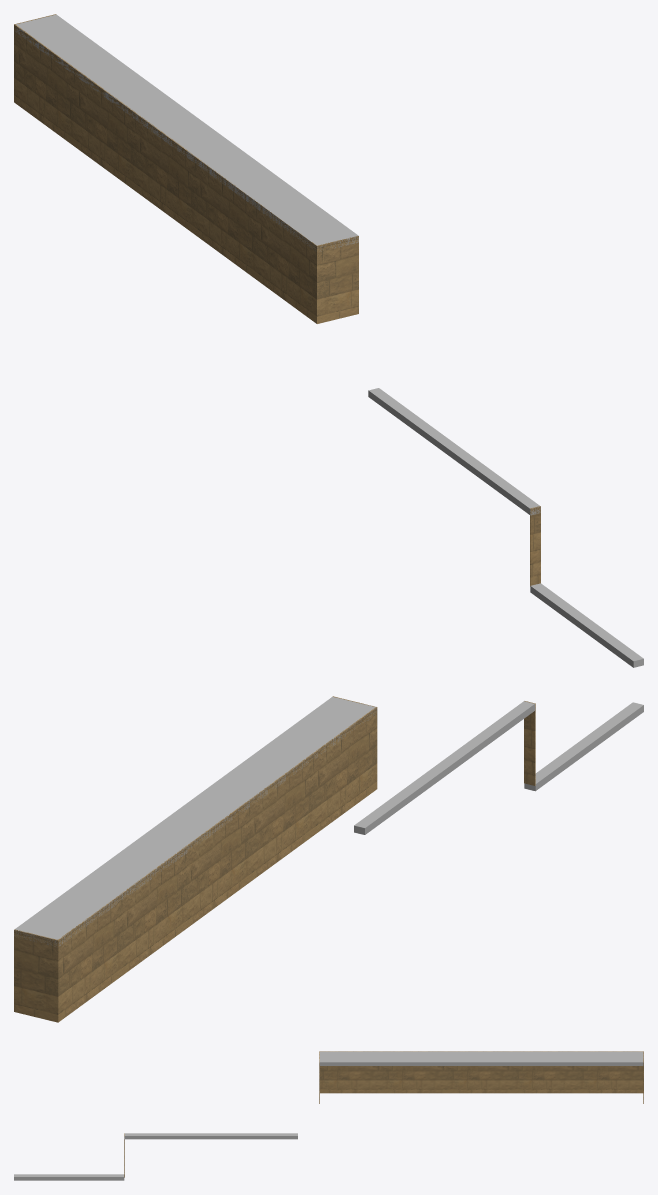
The model's file is roof-bundle-tea-terrace.glb.
3 renders of one model, top to bottom at view 1: azimuth 30°, elevation 25°; view 2: azimuth 150°, elevation 25°; view 3: azimuth 270°, elevation 25°, orthographic. The views are drawn at different scales.
Visible parts, largest first — view 1: bz06_dressed_sandstone-cast, ph_bz04_stone_trim_sandstone-cast; view 2: bz06_dressed_sandstone-cast, ph_bz04_stone_trim_sandstone-cast; view 3: bz06_dressed_sandstone-cast, ph_bz04_stone_trim_sandstone-cast.
Part boxes in pixels (x1,y1,x2,y2): bz06_dressed_sandstone-cast: (14,14,540,586); ph_bz04_stone_trim_sandstone-cast: (15,14,643,667); bz06_dressed_sandstone-cast: (14,696,535,1022); ph_bz04_stone_trim_sandstone-cast: (14,697,643,947); bz06_dressed_sandstone-cast: (124,1051,643,1177); ph_bz04_stone_trim_sandstone-cast: (14,1051,643,1180).
Bounding box in the file's own units: 0.8 × 4.02 × 19.4.
Materials: 2 (1 with a texture image).
